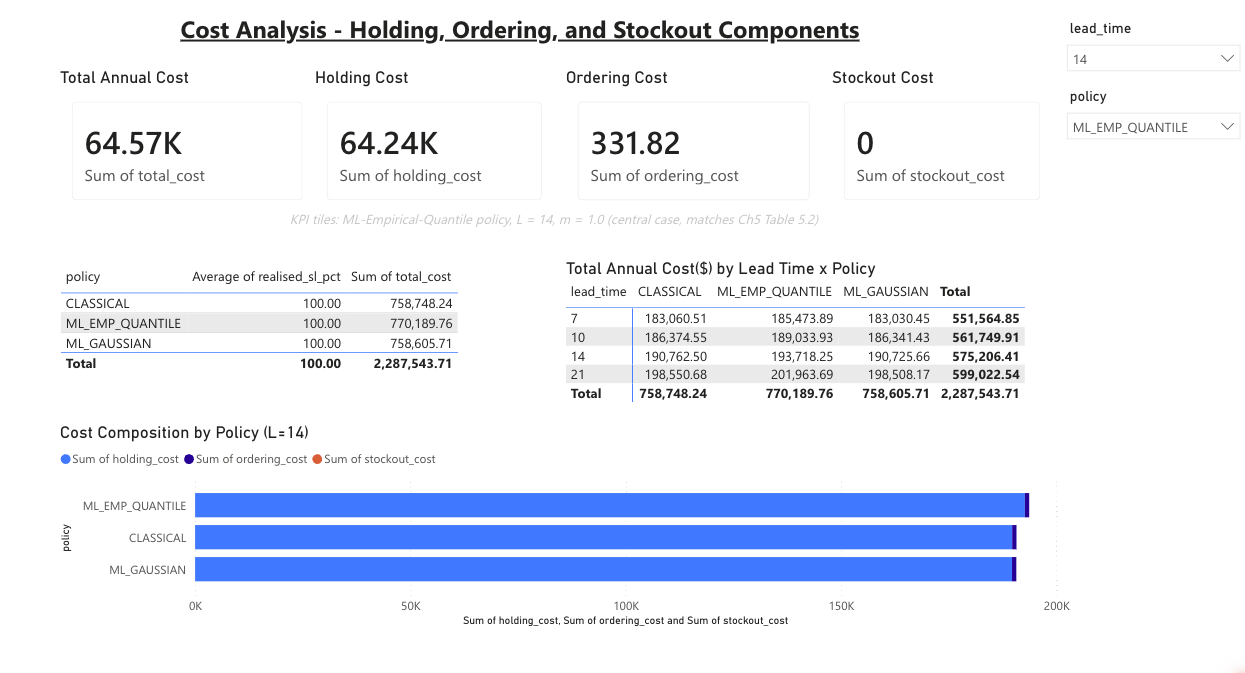

What the dashboard file says about the page in this screenshot:
{"tool":"powerbi","page":{"name":"cost Analysis","canvas":[1280,720],"ordinal":2},"visuals":[{"type":"textbox","box":[145,18.9,790.4,54.6],"z":1},{"type":"cardVisual","title":"Total Annual Cost","fields":{"Data":["Sum(cost_analysis.total_cost)"]},"box":[68.5,83.4,268.1,149.9],"z":2},{"type":"cardVisual","title":"Ordering Cost","fields":{"Data":["Sum(cost_analysis.ordering_cost)"]},"box":[581.7,83.1,269.6,150],"z":3},{"type":"cardVisual","title":"Stockout Cost","fields":{"Data":["Sum(cost_analysis.stockout_cost)"]},"box":[851.3,83.1,233.1,150],"z":4},{"type":"cardVisual","title":"Holding Cost","fields":{"Data":["Sum(cost_analysis.holding_cost)"]},"box":[327.3,83.1,252.4,150],"z":5},{"type":"tableEx","fields":{"Values":["cost_analysis.policy","Avg(cost_analysis.realised_sl_pct)","Sum(cost_analysis.total_cost)"]},"box":[68.9,276.7,471.3,166.2],"z":6},{"type":"pivotTable","title":"Total Annual Cost($) by Lead Time x Policy","fields":{"Columns":["cost_analysis.policy"],"Rows":["cost_analysis.lead_time"],"Values":["Sum(cost_analysis.total_cost)"]},"box":[581.7,276.7,531.1,165.2],"z":7},{"type":"barChart","title":"Cost Composition by Policy (L=14)","fields":{"Category":["cost_analysis.policy"],"Y":["Sum(cost_analysis.holding_cost)","Sum(cost_analysis.ordering_cost)","Sum(cost_analysis.stockout_cost)"]},"box":[68.9,442.9,1033.7,208.8],"z":8},{"type":"slicer","fields":{"Values":["cost_analysis.lead_time"]},"box":[1084.4,29.4,195.6,72],"z":9},{"type":"slicer","fields":{"Values":["cost_analysis.policy"]},"box":[1084.4,98.3,195.6,59.8],"z":10},{"type":"textbox","box":[85.1,219.9,979,30.4],"z":11}]}

Visuals, with their boxes on the page's 1280x720 design canvas (x1, y1, x2, y2). These are canvas units, not pixel positions in the 1245x673 screenshot, which may show the page scaled, cropped or inside an application window:
textbox: crop(145, 19, 935, 74)
"Total Annual Cost" cardVisual: crop(68, 83, 337, 233)
"Ordering Cost" cardVisual: crop(582, 83, 851, 233)
"Stockout Cost" cardVisual: crop(851, 83, 1084, 233)
"Holding Cost" cardVisual: crop(327, 83, 580, 233)
tableEx - cost_analysis.policy x Avg(cost_analysis.realised_sl_pct): crop(69, 277, 540, 443)
"Total Annual Cost($) by Lead Time x Policy" pivotTable: crop(582, 277, 1113, 442)
"Cost Composition by Policy (L=14)" barChart: crop(69, 443, 1103, 652)
slicer - cost_analysis.lead_time: crop(1084, 29, 1280, 101)
slicer - cost_analysis.policy: crop(1084, 98, 1280, 158)
textbox: crop(85, 220, 1064, 250)
